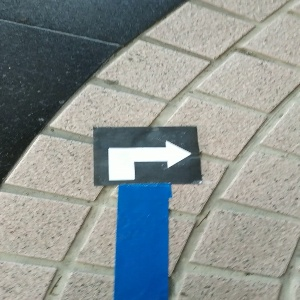right: (93, 127, 201, 184)
